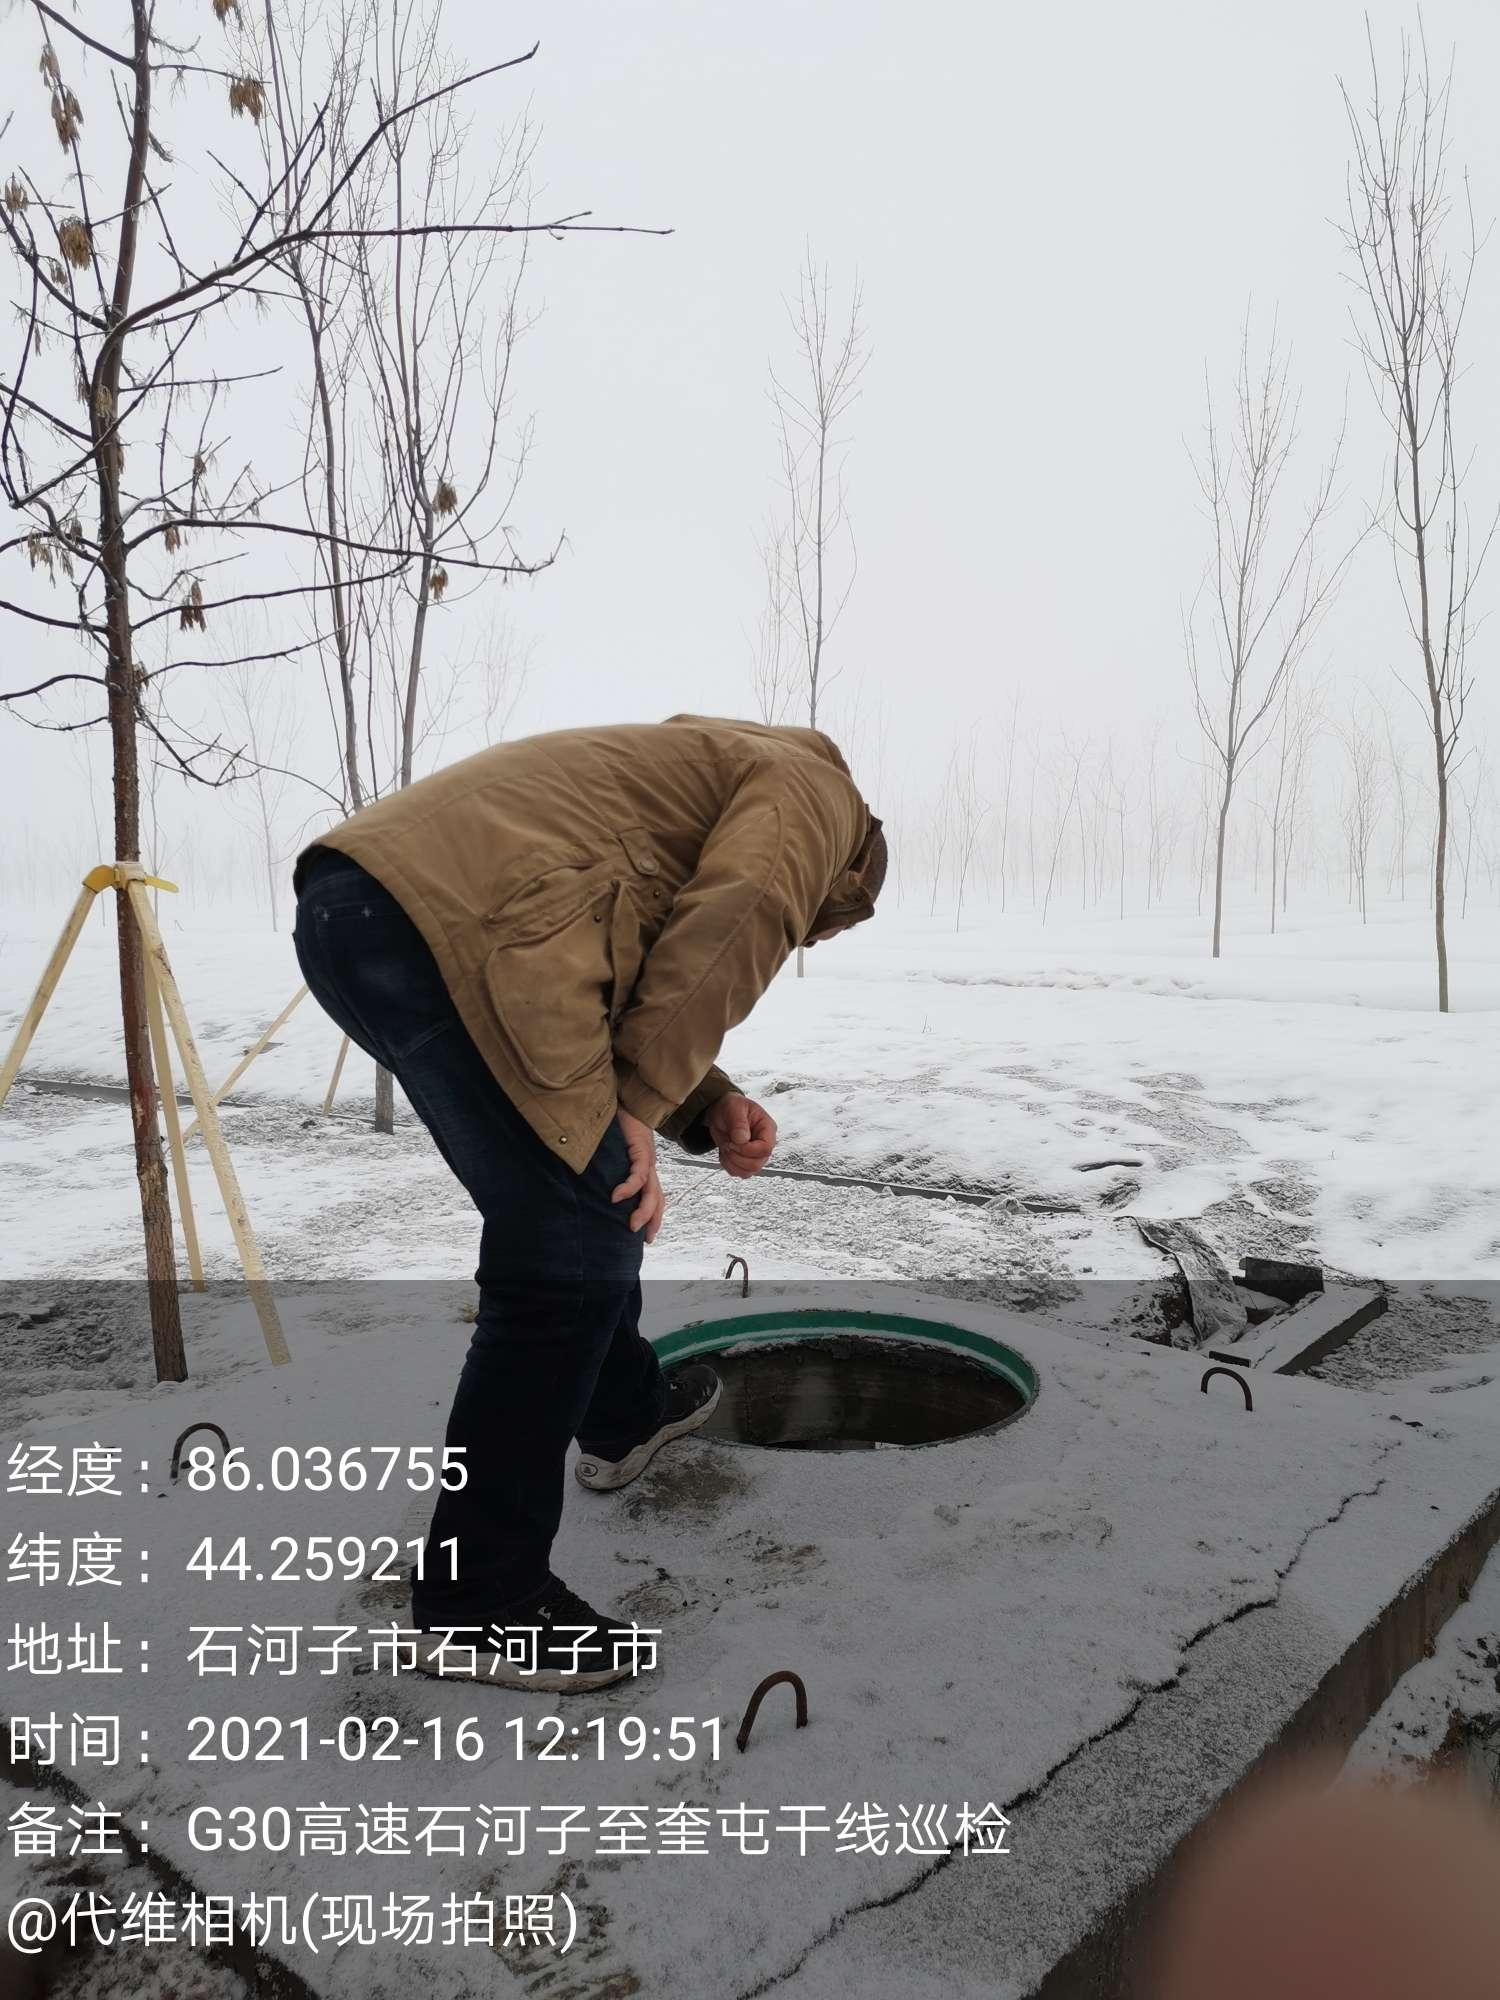wellcover: (614, 1285, 1139, 1498)
